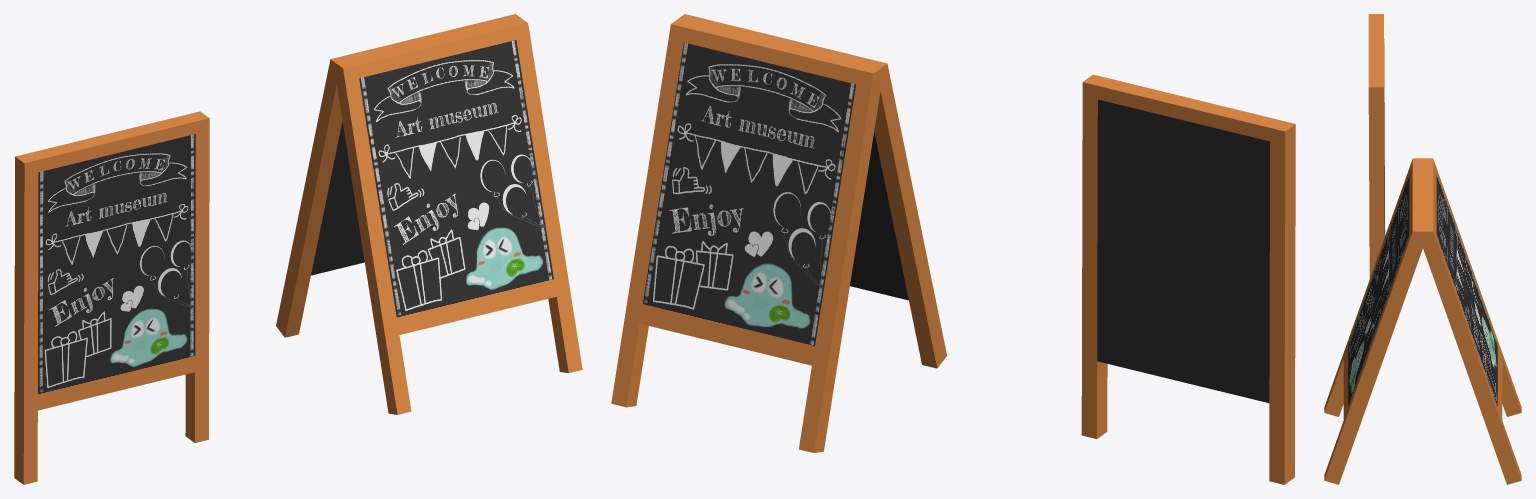
Rendered from SignBoard.fbx.
The picture shows the model from 3 angles, left to right: view 1: azimuth 30°, elevation 25°; view 2: azimuth 150°, elevation 25°; view 3: azimuth 270°, elevation 25°; orthographic projection. The views are drawn at different scales.
Visible parts, largest first — view 1: Signboard, Signboard2; view 2: Signboard, Signboard2; view 3: Signboard, Signboard2.
Boxes of the visible parts, bbox=[...] form: Signboard: bbox=[276, 14, 582, 414]; Signboard2: bbox=[14, 111, 209, 484]; Signboard: bbox=[611, 14, 946, 452]; Signboard2: bbox=[1081, 74, 1295, 484]; Signboard: bbox=[1324, 158, 1521, 484]; Signboard2: bbox=[1368, 14, 1385, 278].
Bounding box in the file's own units: 214 × 124 × 84.89.
Materials: 1 (1 with a texture image).
